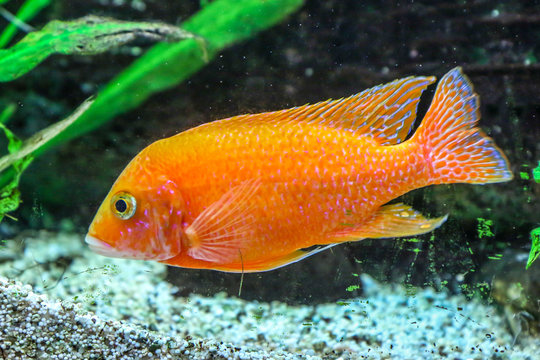Rock Fish: (86, 71, 514, 297)
